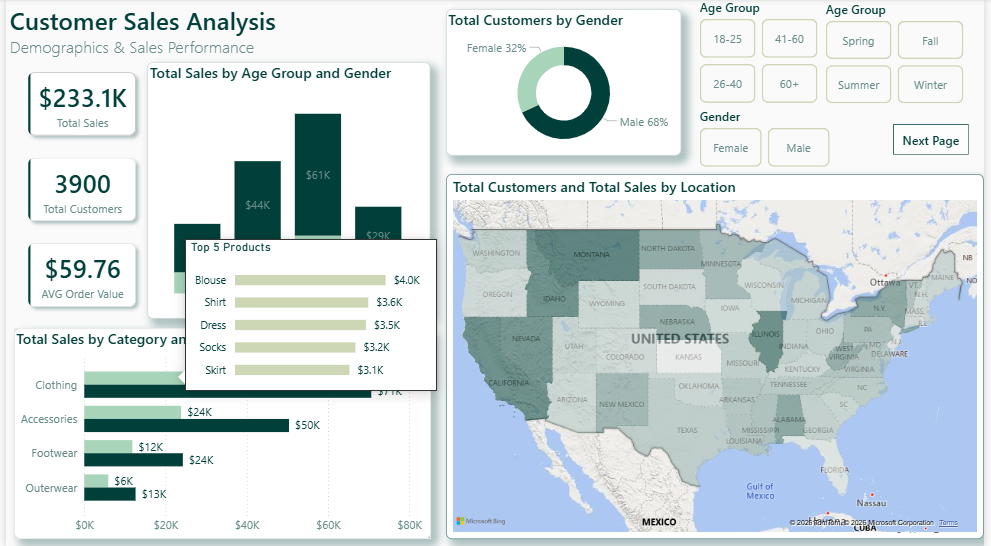

The page's visual inventory and layout, read from the dashboard file:
{"tool":"powerbi","page":{"name":"Demographics & Sales Performance","canvas":[1280,720],"ordinal":0},"visuals":[{"type":"columnChart","fields":{"Category":["shopping_behavior_cleaned.Age Group"],"Y":["shopping_behavior_cleaned.Total Sales"],"Series":["shopping_behavior_cleaned.Gender"]},"box":[184.8,82.3,371.2,336],"z":0},{"type":"cardVisual","fields":{"Data":["_Measures .Total Sales","_Measures .Total Customers","_Measures .AVG Order Value"]},"box":[0,67.2,199.9,366.2],"z":1000},{"type":"donutChart","fields":{"Category":["shopping_behavior_cleaned.Gender"],"Y":["_Measures .Total Customers"]},"box":[576,13,308.2,191.5],"z":2000},{"type":"filledMap","fields":{"Category":["shopping_behavior_cleaned.Location"]},"box":[576,229,704.2,478.1],"z":3000},{"type":"clusteredBarChart","fields":{"Category":["shopping_behavior_cleaned.Category"],"Y":["_Measures .Total Sales"],"Series":["shopping_behavior_cleaned.Gender"]},"box":[10.1,430.6,545.8,276.5],"z":4000},{"type":"textbox","box":[0,0,398.1,109.2],"z":5000},{"type":"advancedSlicerVisual","title":"Gender","fields":{"Values":["shopping_behavior_cleaned.Gender"]},"box":[902.9,142.6,180,82.1],"z":6000},{"type":"advancedSlicerVisual","title":"Age Group","fields":{"Values":["shopping_behavior_cleaned.Age Group"]},"box":[902.9,0,165.6,142.6],"z":7000},{"type":"advancedSlicerVisual","title":"Age Group","fields":{"Values":["shopping_behavior_cleaned.Season"]},"box":[1068.5,2.9,191.5,139.7],"z":8000},{"type":"actionButton","box":[1160.6,164.2,99.4,40.3],"z":9000}]}

Visuals, with their boxes in screenshot pixels (x1, y1, x2, y2), scaled from the page's 1280x720 canvas onto the 991x546 screenshot:
columnChart - shopping_behavior_cleaned.Age Group x shopping_behavior_cleaned.Total Sales: 143 62 430 317
cardVisual - _Measures .Total Sales x _Measures .Total Customers: 0 51 155 329
donutChart - shopping_behavior_cleaned.Gender x _Measures .Total Customers: 446 10 685 155
filledMap - shopping_behavior_cleaned.Location: 446 174 990 536
clusteredBarChart - shopping_behavior_cleaned.Category x _Measures .Total Sales: 8 327 430 536
textbox: 0 0 308 83
"Gender" advancedSlicerVisual: 699 108 838 170
"Age Group" advancedSlicerVisual: 699 0 827 108
"Age Group" advancedSlicerVisual: 827 2 976 108
actionButton: 899 125 976 155
